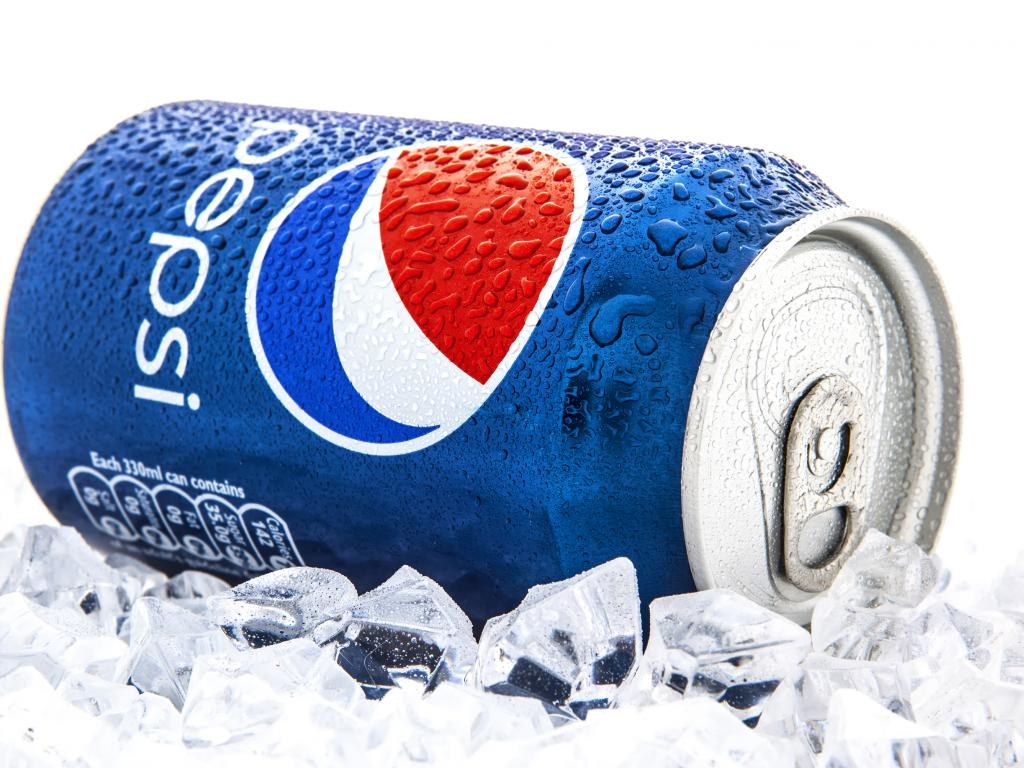pepsi: (244, 127, 589, 454), (244, 136, 589, 454), (259, 127, 589, 454)
